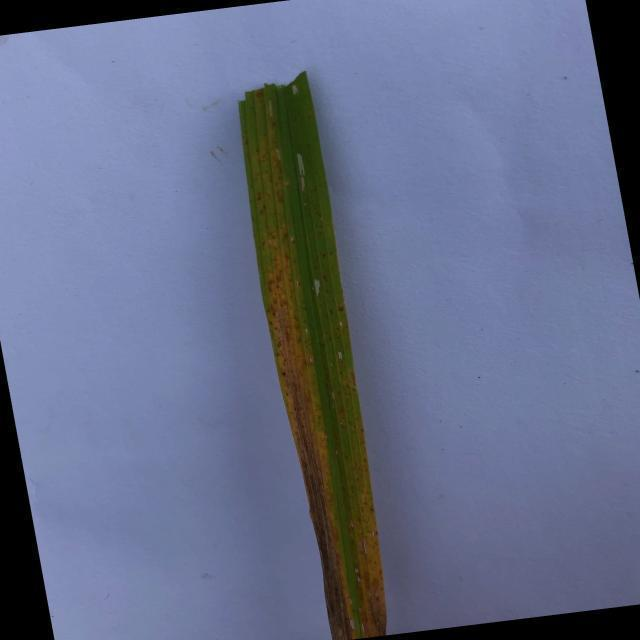Rice Tungro: (259, 239, 387, 640)
